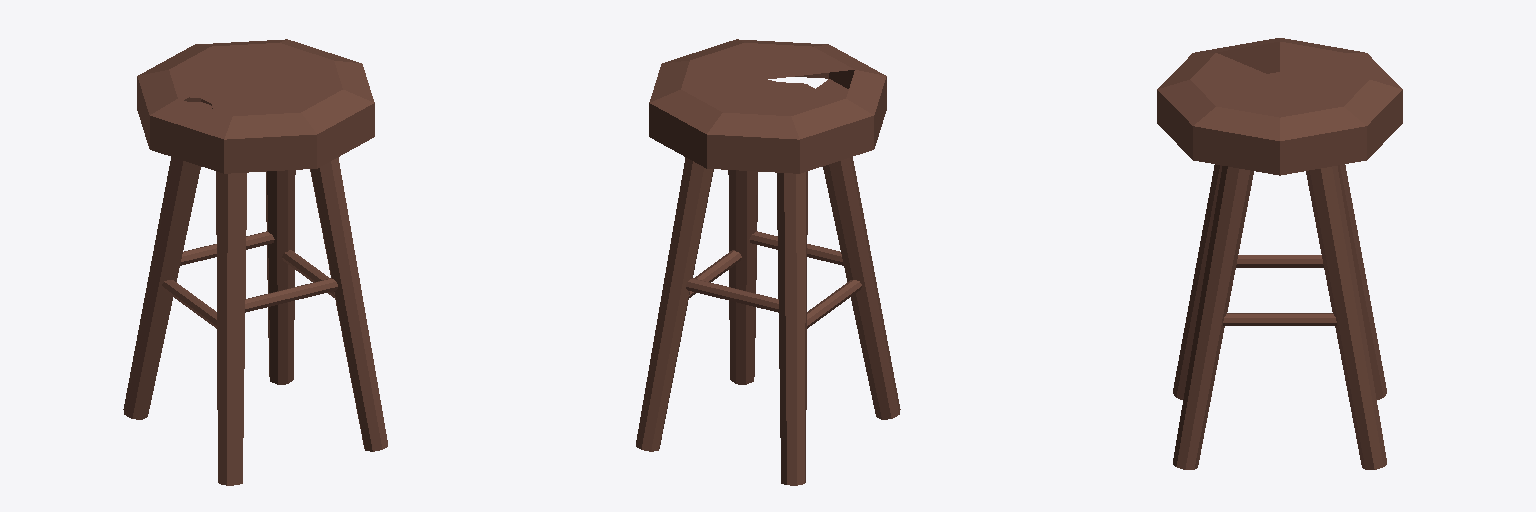
Rendered from chair.obj.
The picture shows the model from 3 angles: view 1: azimuth 30°, elevation 25°; view 2: azimuth 150°, elevation 25°; view 3: azimuth 270°, elevation 25°; orthographic projection.
Visible parts, largest first — view 1: meshChair; view 2: meshChair; view 3: meshChair.
Boxes of the visible parts, x1=… form: meshChair: x1=123, y1=39, x2=387, y2=485; meshChair: x1=636, y1=39, x2=900, y2=485; meshChair: x1=1157, y1=38, x2=1402, y2=469.
Size of the model in its own units: 6.47 by 10.25 by 6.47.